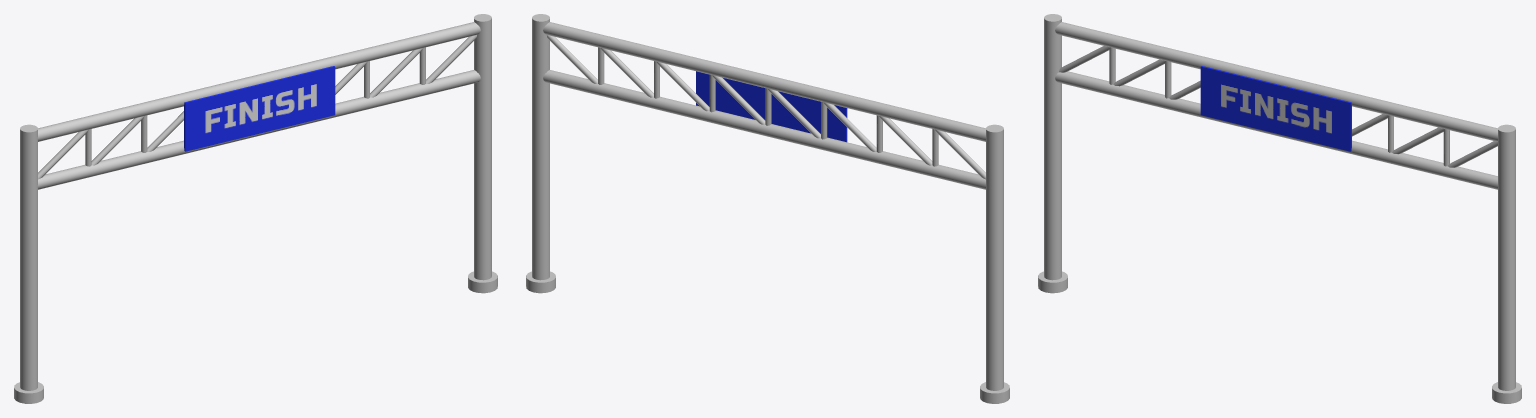
File: Arch-Finish_Blue_Gantry.fbx
The picture shows the model from 3 angles, left to right: view 1: azimuth 30°, elevation 25°; view 2: azimuth 150°, elevation 25°; view 3: azimuth 330°, elevation 25°; orthographic projection.
Visible parts, largest first — view 1: Arch-Finish_Blue_Gantry, Arch-Finish_Blue_Gantry-board, Arch-Finish_Blue_Gantry-dia, Arch-Finish_Blue_Gantry-poles; view 2: Arch-Finish_Blue_Gantry, Arch-Finish_Blue_Gantry-board, Arch-Finish_Blue_Gantry-dia, Arch-Finish_Blue_Gantry-poles; view 3: Arch-Finish_Blue_Gantry, Arch-Finish_Blue_Gantry-board, Arch-Finish_Blue_Gantry-dia, Arch-Finish_Blue_Gantry-poles.
Boxes of the visible parts, box(x1,y1,x2,y2) form: Arch-Finish_Blue_Gantry: box(14, 14, 497, 403); Arch-Finish_Blue_Gantry-board: box(184, 66, 335, 151); Arch-Finish_Blue_Gantry-dia: box(38, 35, 476, 179); Arch-Finish_Blue_Gantry-poles: box(85, 47, 425, 166); Arch-Finish_Blue_Gantry: box(526, 14, 1009, 403); Arch-Finish_Blue_Gantry-board: box(696, 71, 847, 142); Arch-Finish_Blue_Gantry-dia: box(547, 35, 985, 179); Arch-Finish_Blue_Gantry-poles: box(598, 47, 938, 166); Arch-Finish_Blue_Gantry: box(1038, 14, 1521, 403); Arch-Finish_Blue_Gantry-board: box(1200, 66, 1351, 151); Arch-Finish_Blue_Gantry-dia: box(1059, 46, 1497, 167); Arch-Finish_Blue_Gantry-poles: box(1109, 47, 1449, 166).
Bounding box in the file's own units: 840 × 450 × 45.82.
